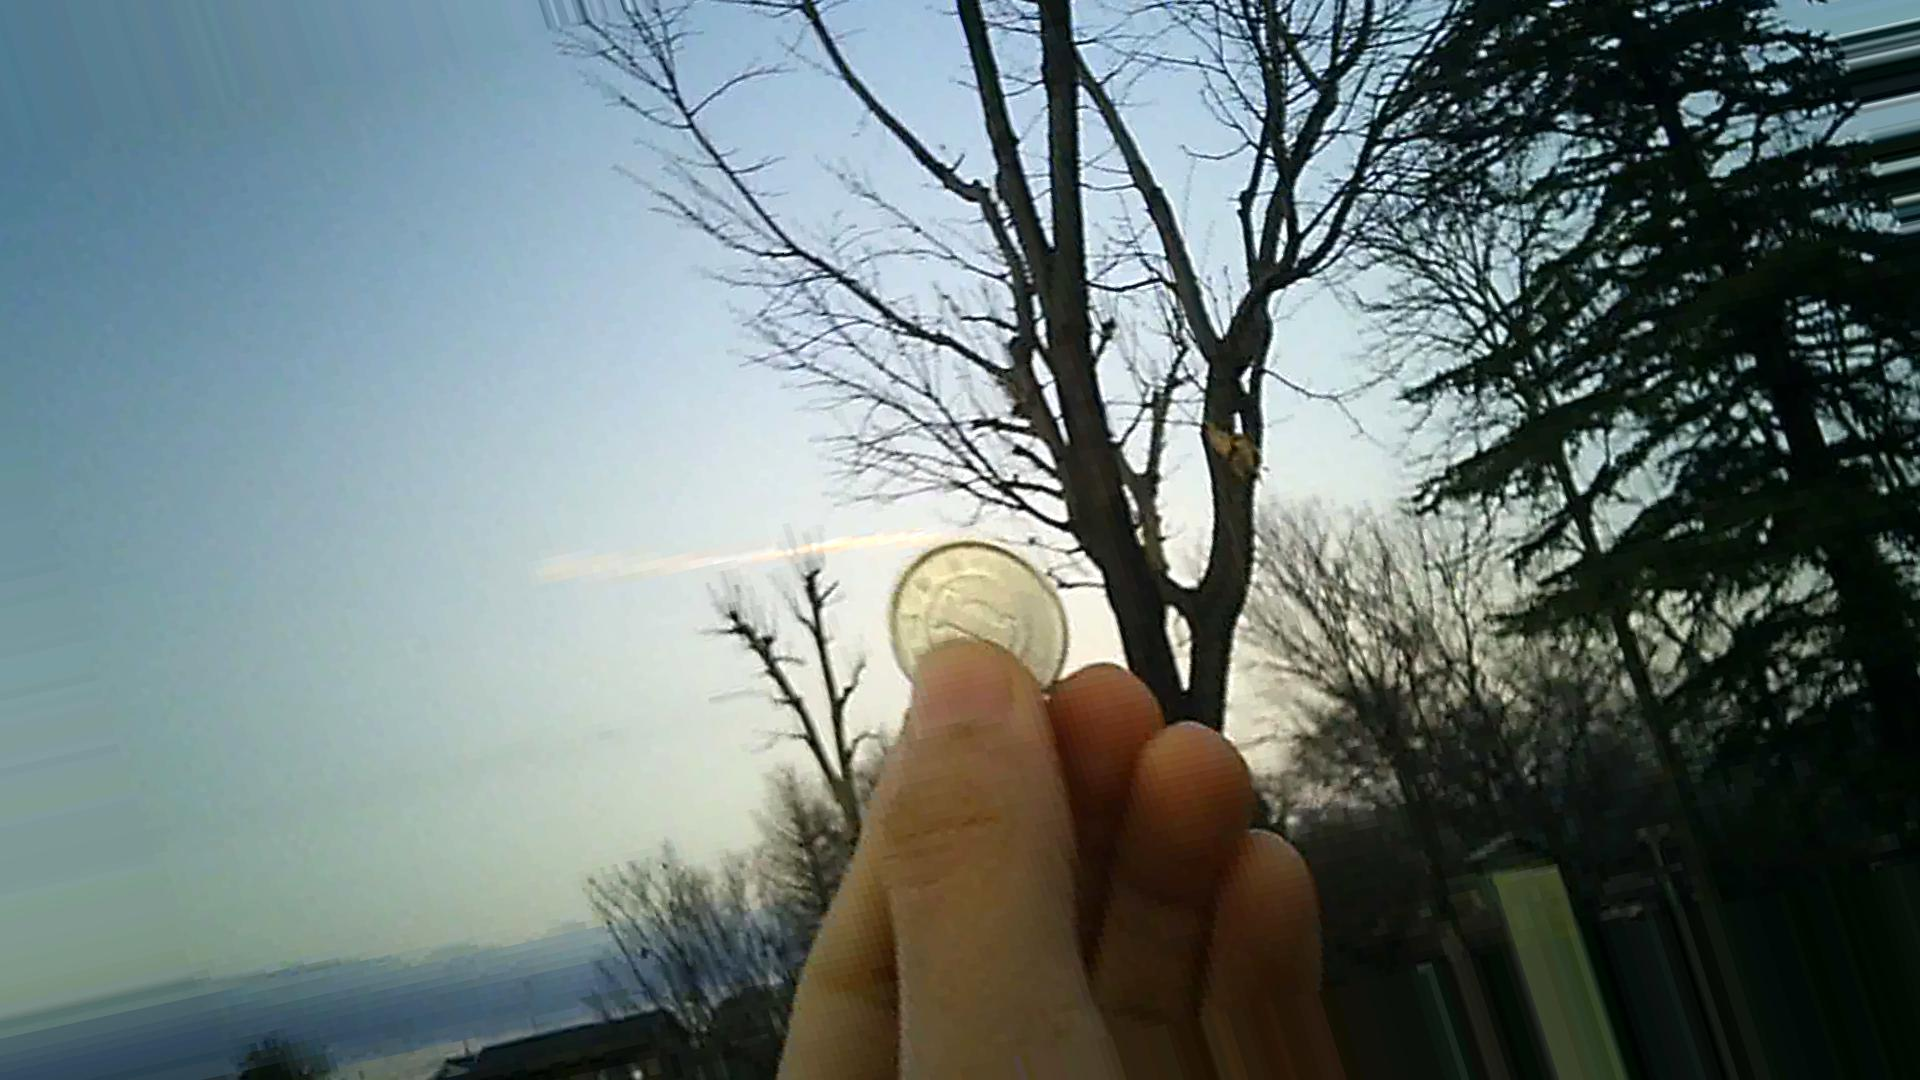1 Yen: (880, 538, 1091, 713)
